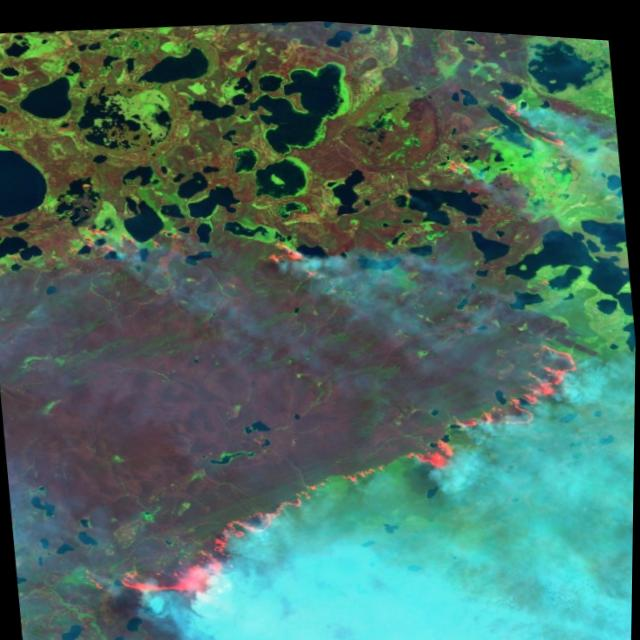fire: (82, 299, 610, 627), (426, 71, 588, 189), (46, 190, 204, 274), (252, 226, 347, 296), (624, 498, 635, 536)
